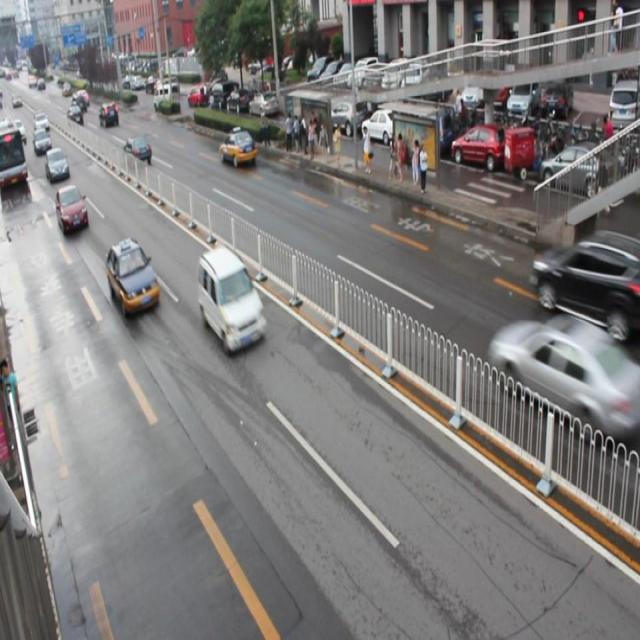car: (491, 315, 621, 429), (531, 237, 640, 337), (198, 244, 266, 353), (106, 236, 160, 316), (56, 184, 89, 233), (219, 128, 257, 166), (122, 134, 152, 163), (46, 148, 70, 183)
